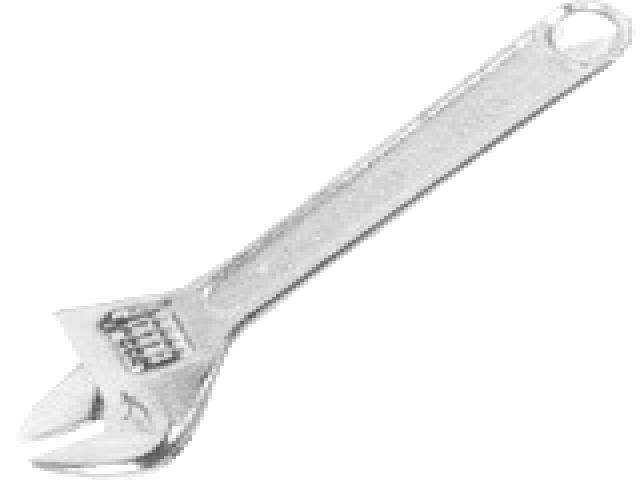Adjustable spanner: (18, 0, 631, 478)
